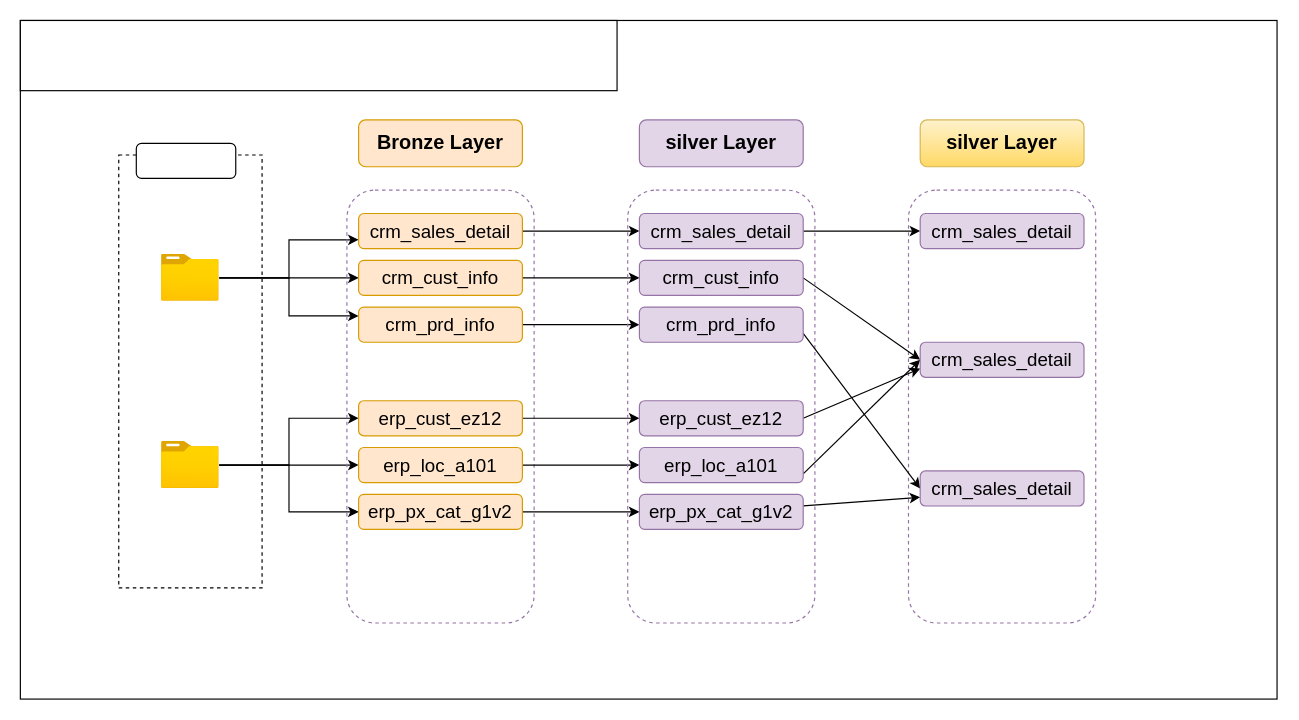
Some shapes in this 1299 by 720 pixel diagram are drawn without their labels. Each missing label, with the centre of its shape:
CRM: [190,277]
Data Flow Diagram (Data Lineage): [318,55]
ERP: [190,464]
Sources: [185,160]
